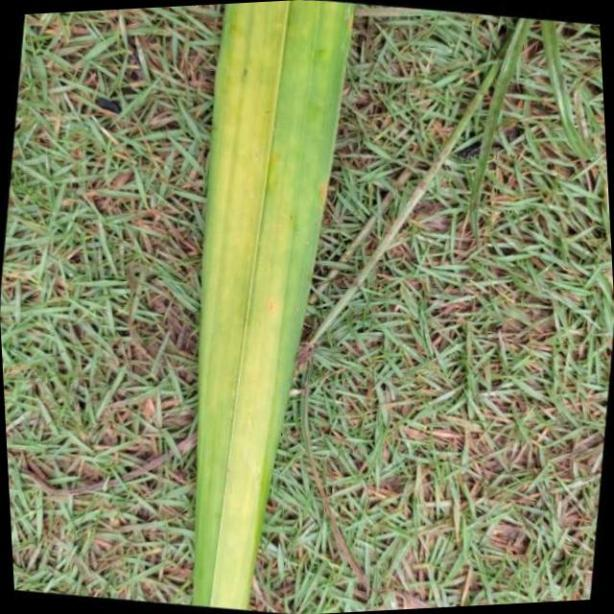nitrogen: (189, 0, 355, 614)
